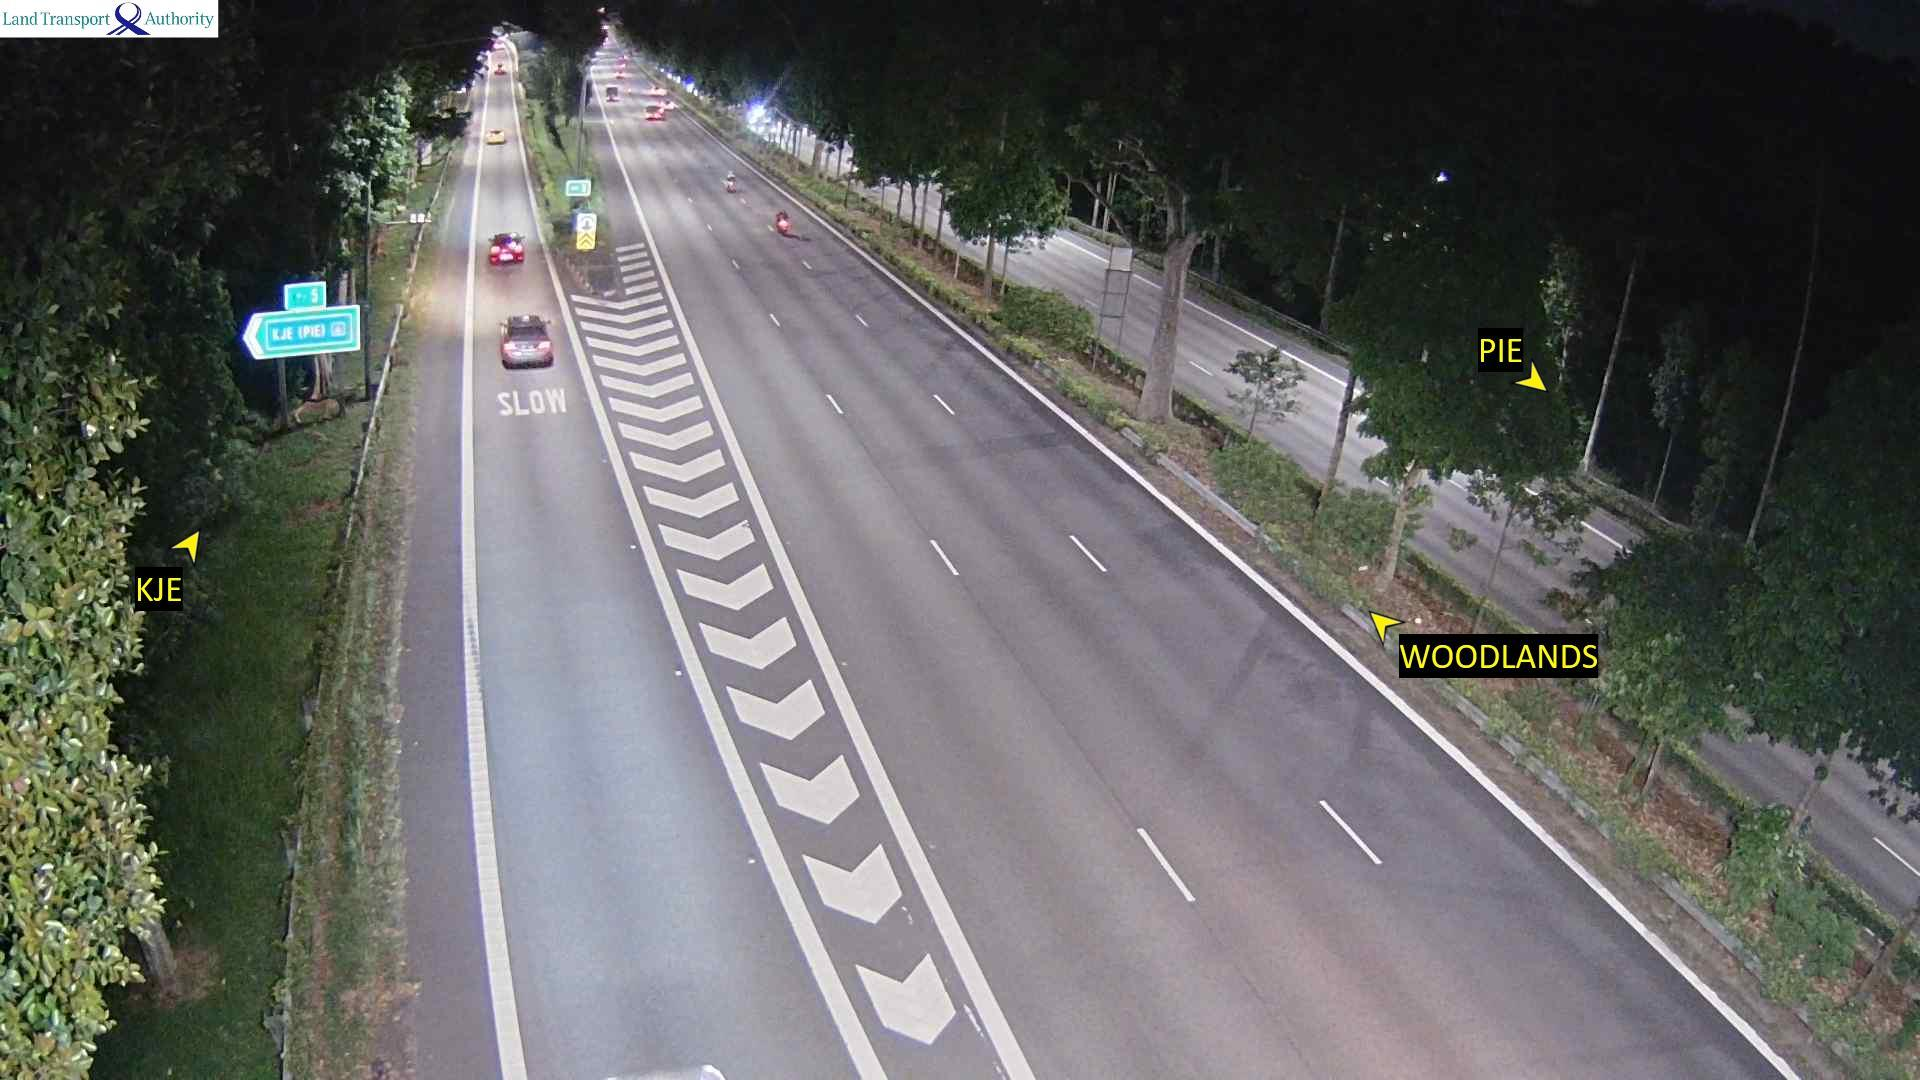cars: (498, 313, 553, 368), (487, 231, 524, 265), (485, 127, 505, 144), (644, 104, 665, 120), (604, 84, 618, 102), (661, 98, 678, 111), (492, 62, 506, 74), (615, 59, 625, 75)
motorcycle: (774, 210, 790, 233), (721, 171, 737, 193)
